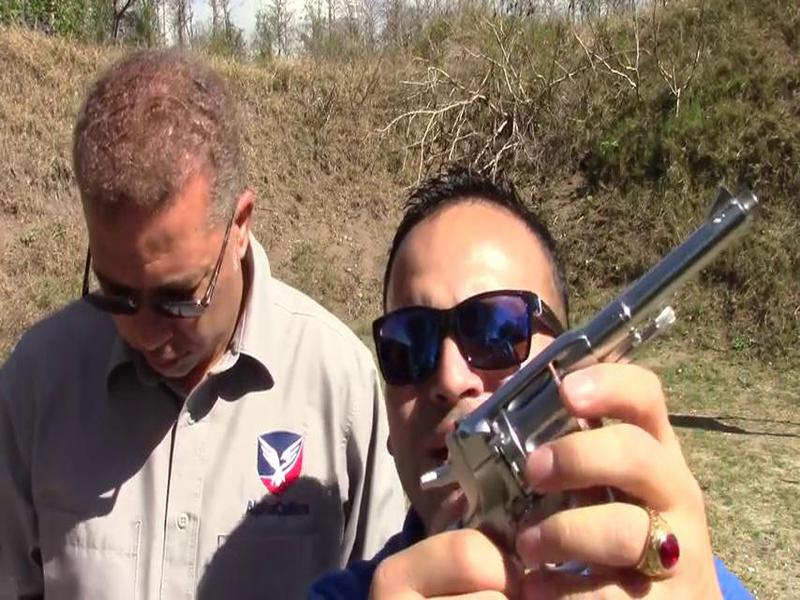Revolver: (412, 176, 775, 580)
